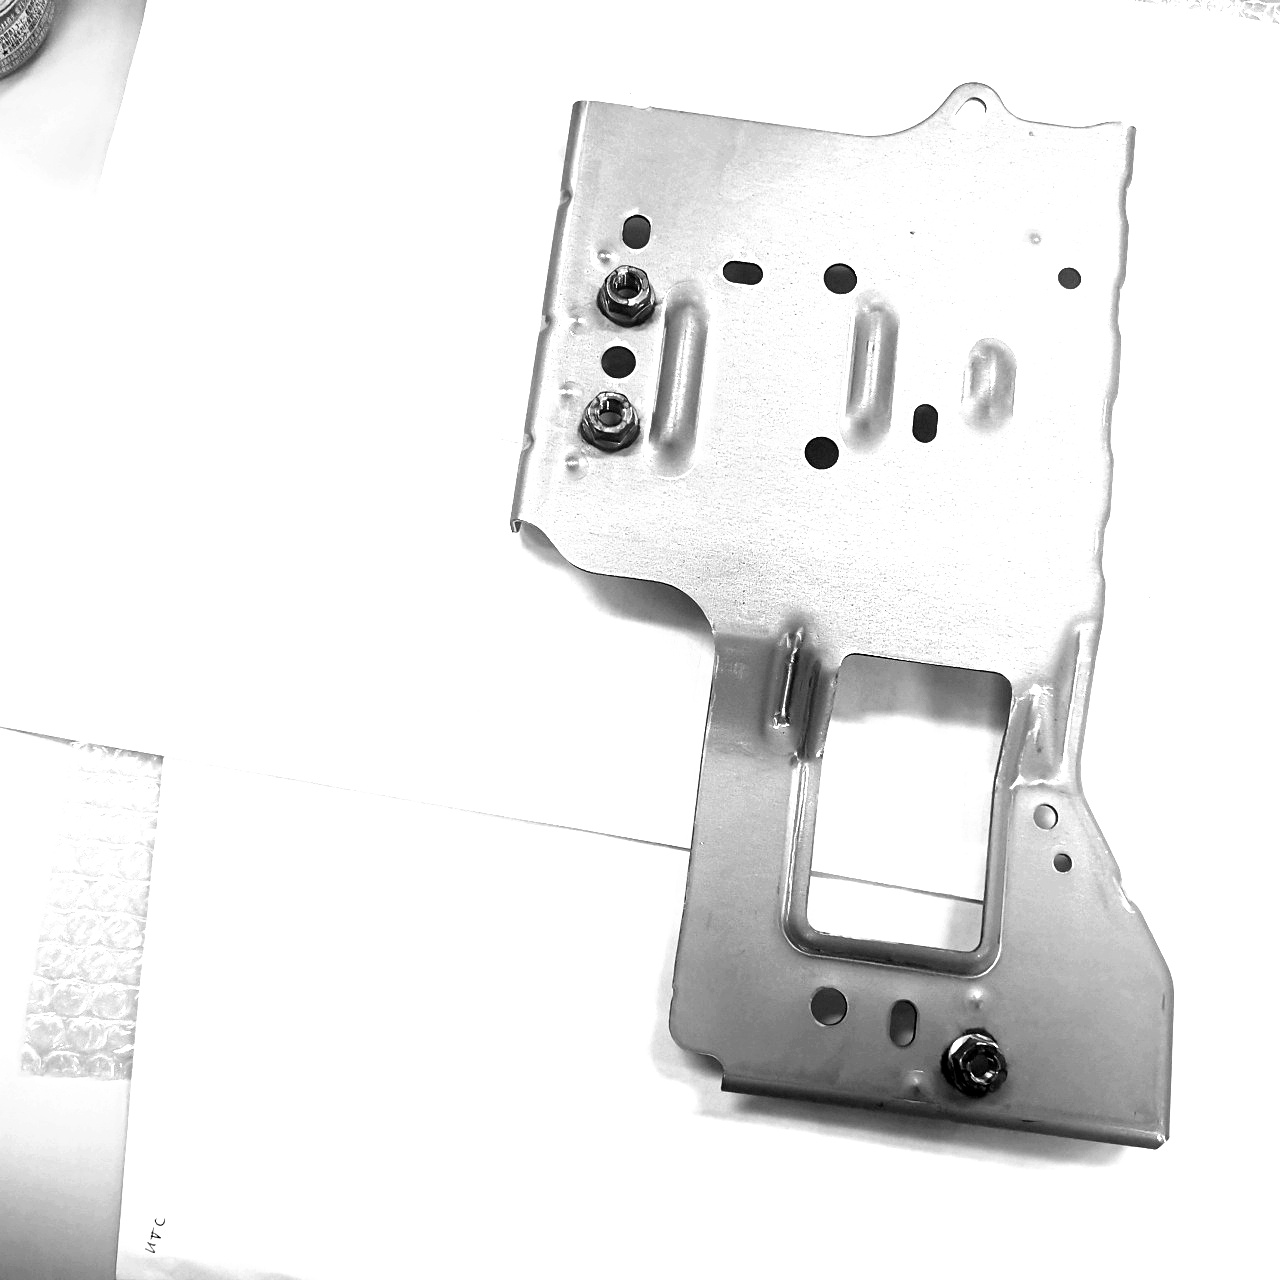dog: (938, 1022, 1010, 1104), (592, 260, 662, 331), (574, 386, 644, 454)
